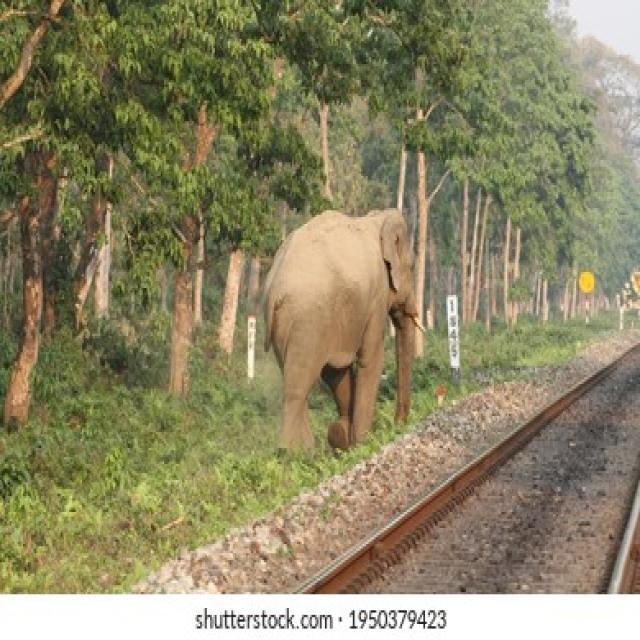Elephant: (254, 187, 430, 464)
